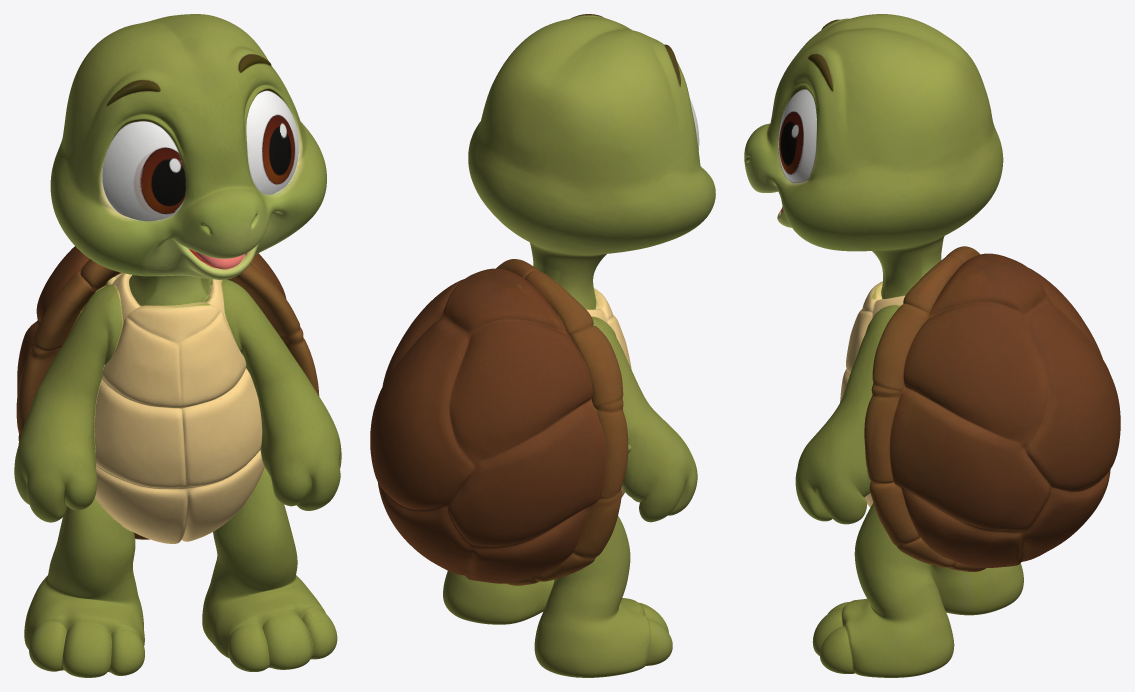
The model's file is tortuga.glb.
3 renders of one model, left to right at view 1: azimuth 30°, elevation 25°; view 2: azimuth 150°, elevation 25°; view 3: azimuth 270°, elevation 25°, orthographic. The views are drawn at different scales.
Bounding box in the file's own units: 0.9169 × 1.9 × 1.1.
1 material, 1 textured.
